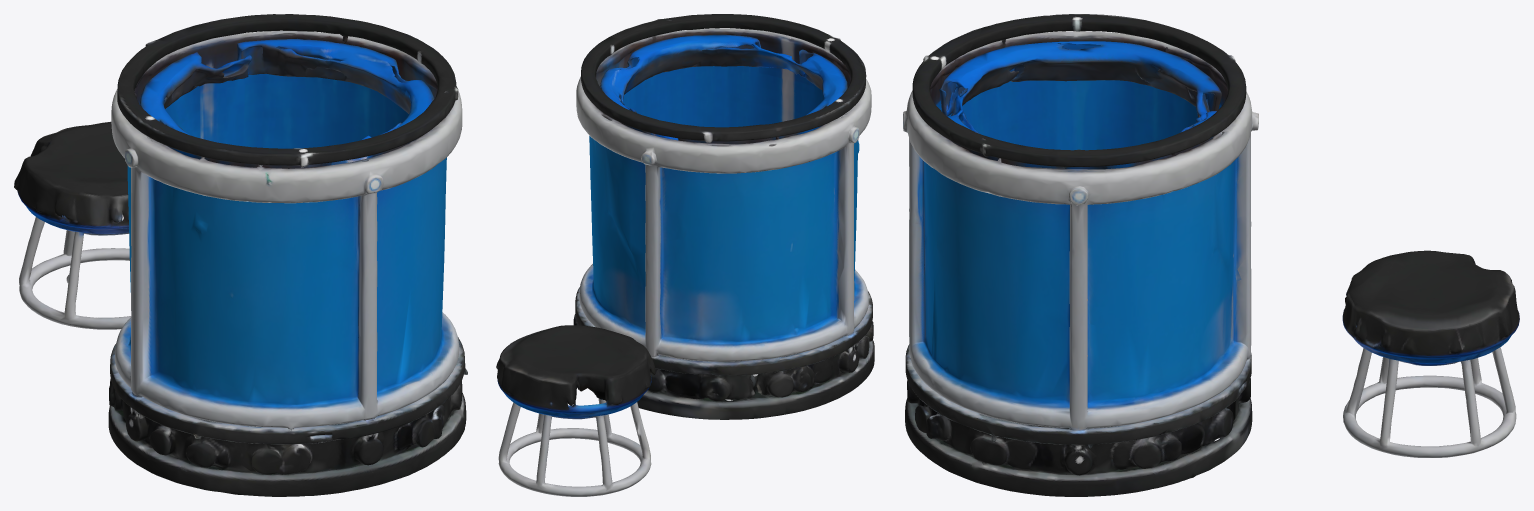
The model's file is building-dunk-tank.glb.
3 views of the same model, side by side, from view 1: azimuth 30°, elevation 25°; view 2: azimuth 150°, elevation 25°; view 3: azimuth 270°, elevation 25° (orthographic). The views are drawn at different scales.
Visible parts, largest first — view 1: tripo_node_763850b4-5596-4eed-a909-f0828fda9e62; view 2: tripo_node_763850b4-5596-4eed-a909-f0828fda9e62; view 3: tripo_node_763850b4-5596-4eed-a909-f0828fda9e62.
Part boxes in pixels (<box>): tripo_node_763850b4-5596-4eed-a909-f0828fda9e62: <box>14,14,467,496</box>; tripo_node_763850b4-5596-4eed-a909-f0828fda9e62: <box>496,14,874,496</box>; tripo_node_763850b4-5596-4eed-a909-f0828fda9e62: <box>903,14,1519,496</box>.
Bounding box in the file's own units: 3.88 × 4 × 6.61.
Materials: 1 (1 with a texture image).
